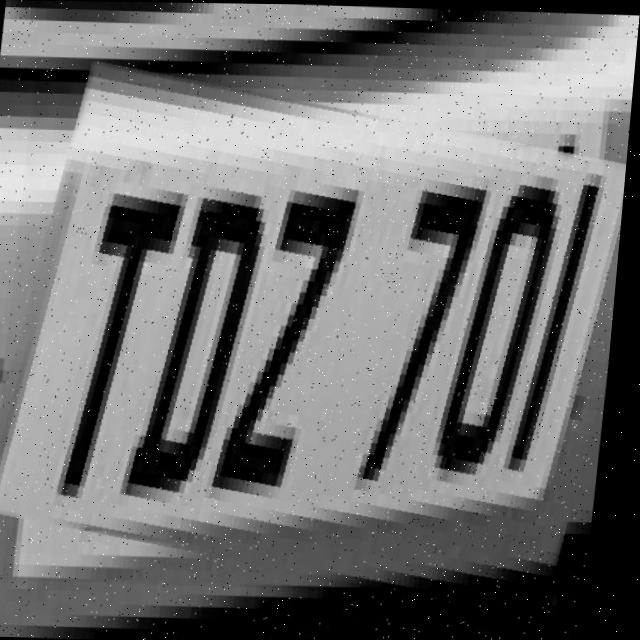LicensePlate: (0, 78, 635, 595)
